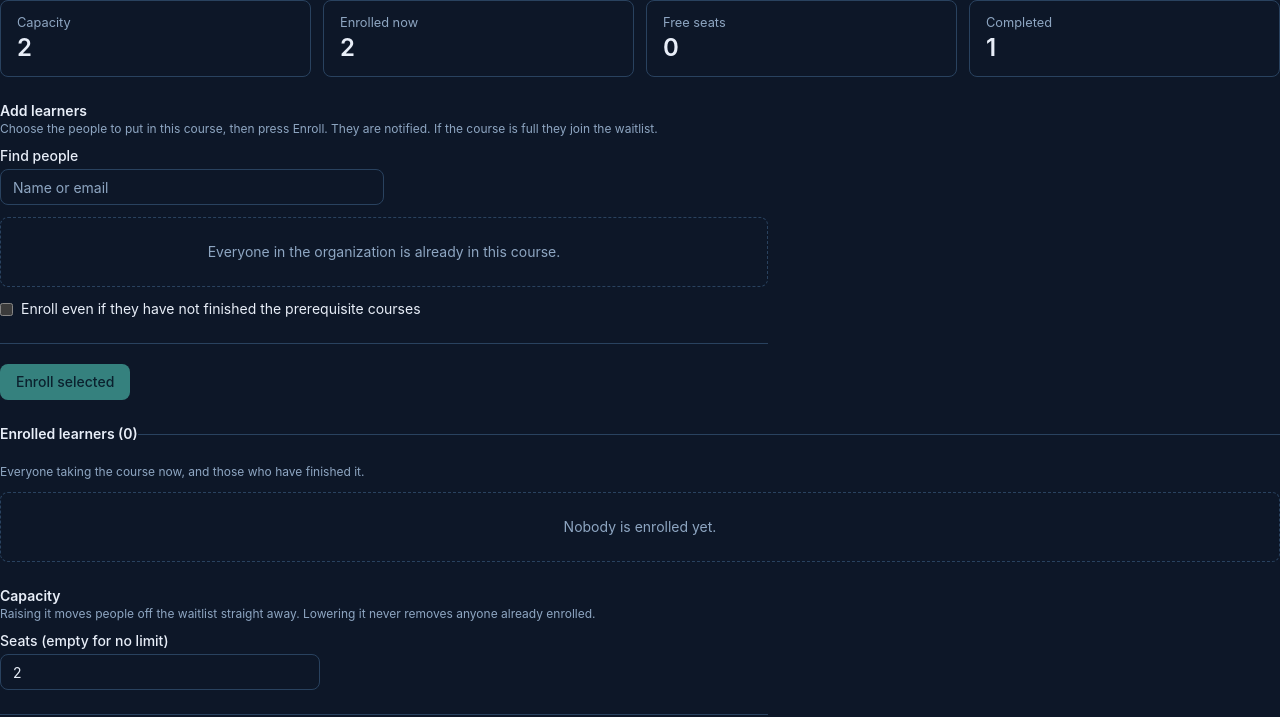
Test: CourseEnrollmentPanel › reports how many people a capacity change moved off the waitlist
Replace the text in the field labelled "Seats (empty for no limit)" with "4": [160, 672] box [0,654,320,690]
(page scrolled)
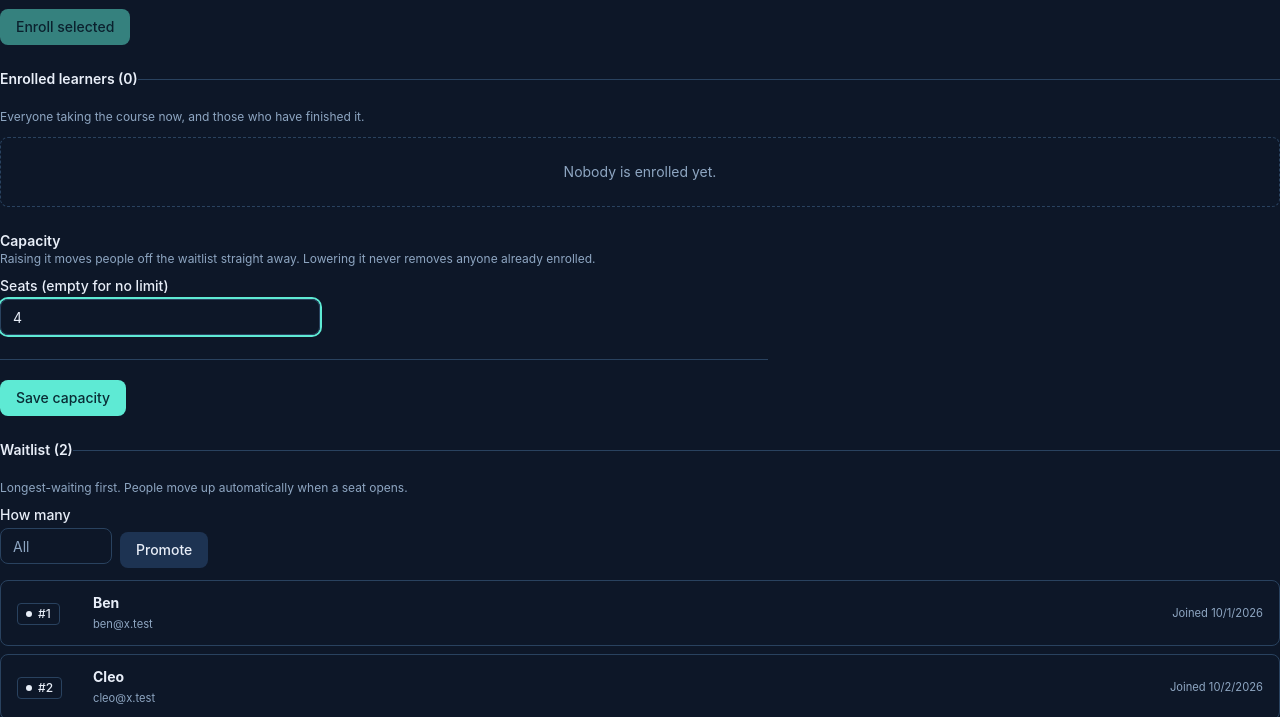
Click the button "Save capacity": [63, 398] box [0,380,126,416]
(page scrolled)
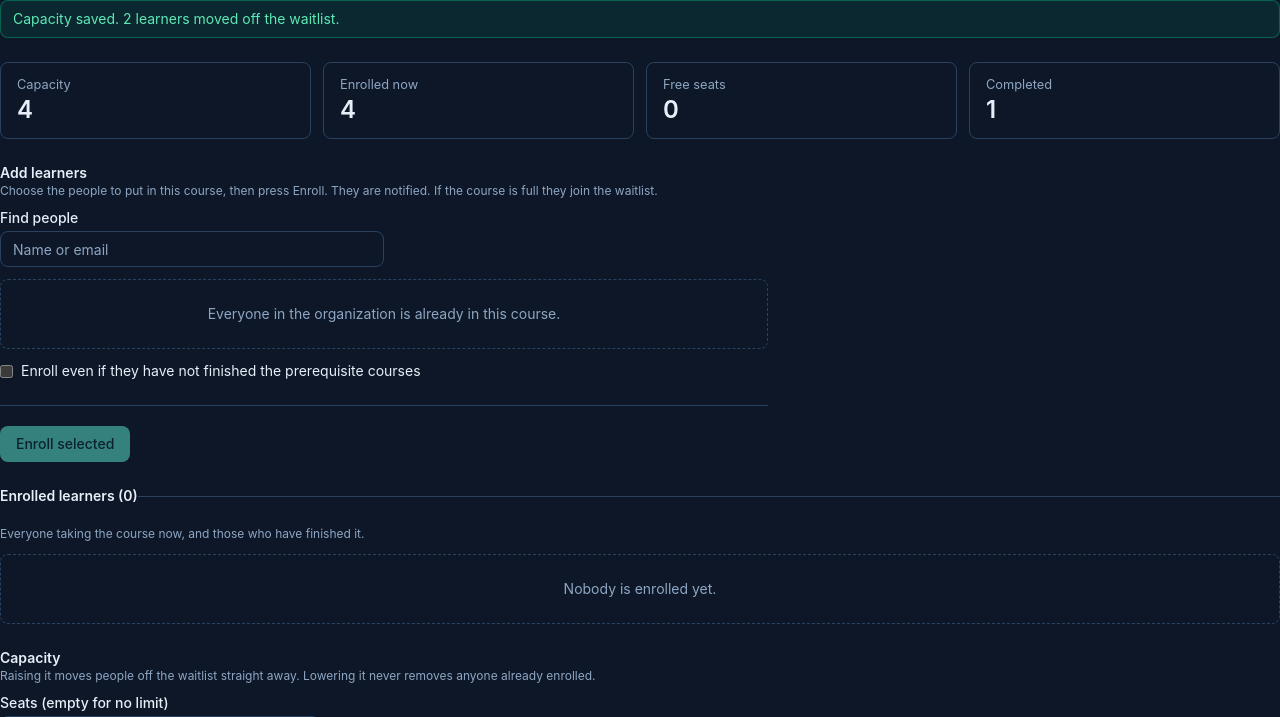
Check: the message shows "2 learners moved off the waitlist", box [13,10,339,27]
